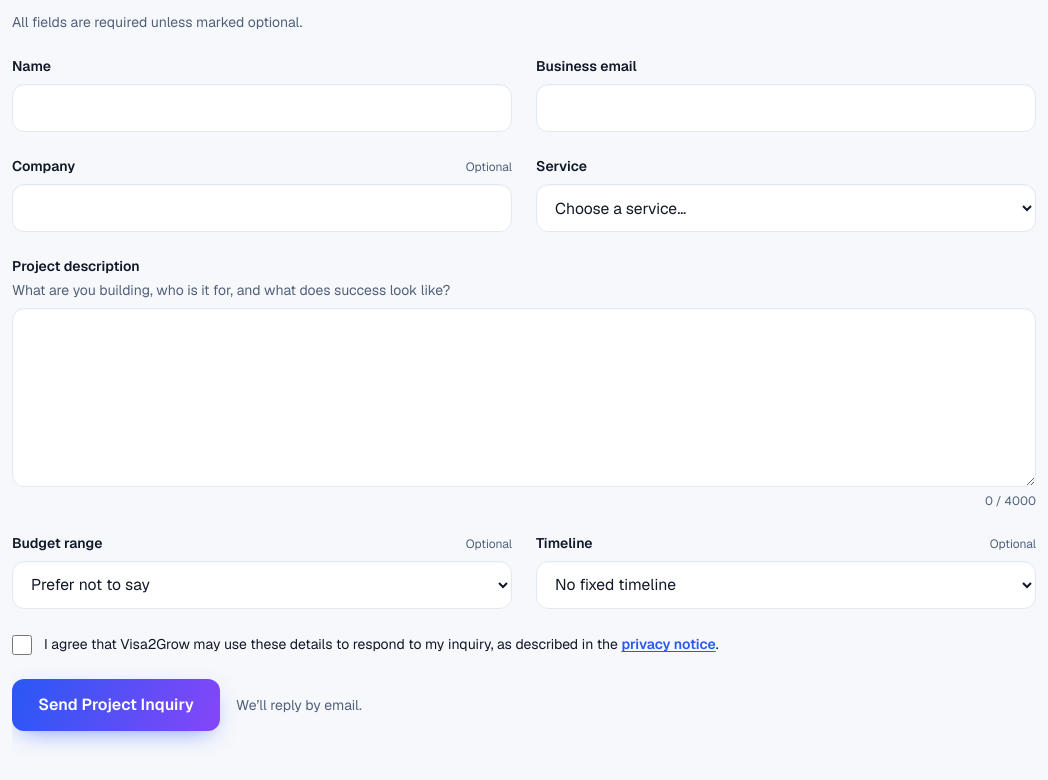
Scenario: ContactForm › says plainly when online submission is not configured
Type "Asha Rao" into the field labelled "Name" at (262, 108), box [12, 84, 512, 132]
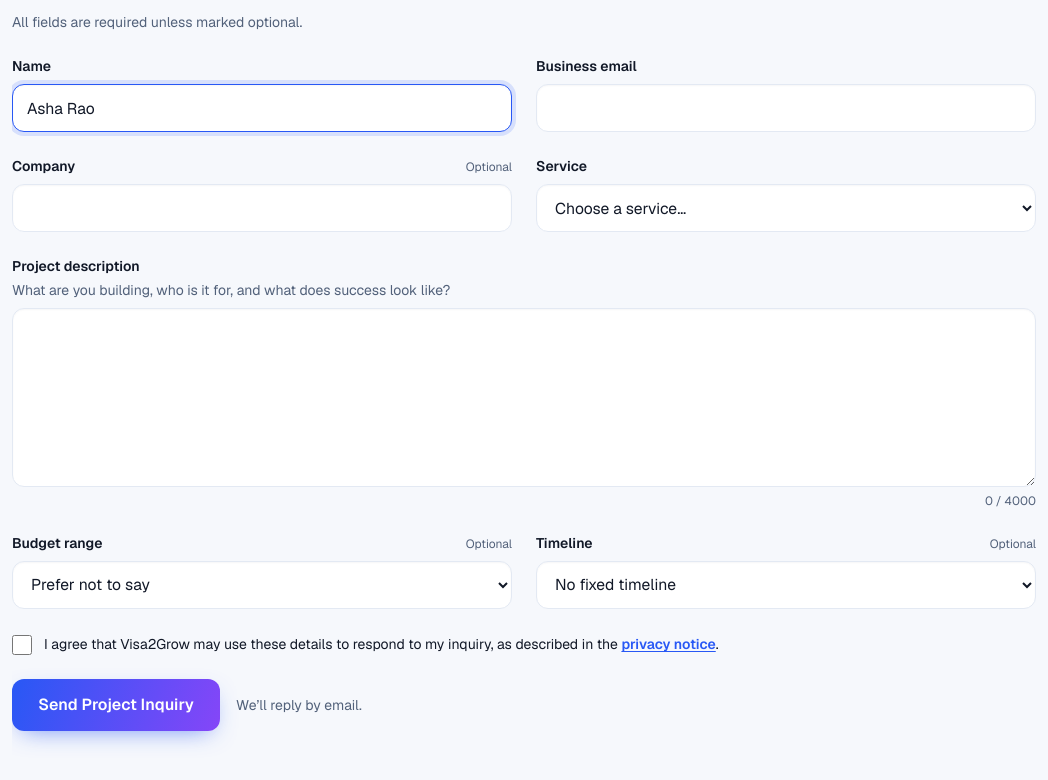
Type "asha@example.com" into the field labelled "Business email" at (786, 108), box [536, 84, 1036, 132]
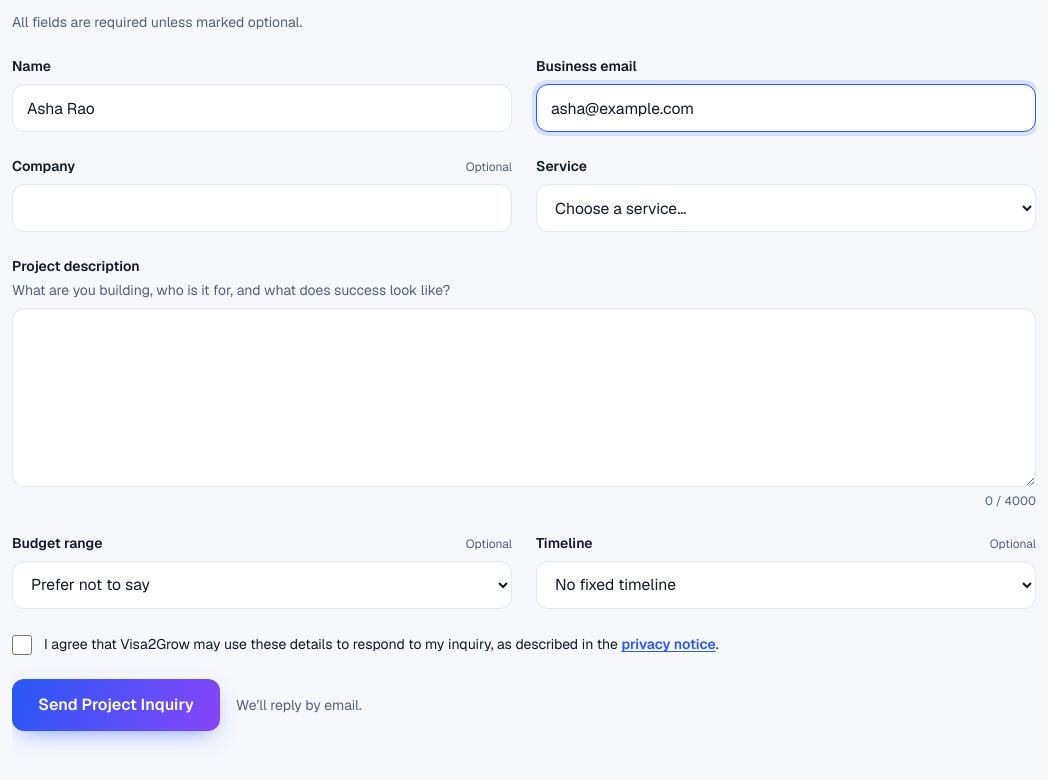
Select "Web Development" in the dropdown labelled "Service" at (786, 208), box [536, 184, 1036, 232]
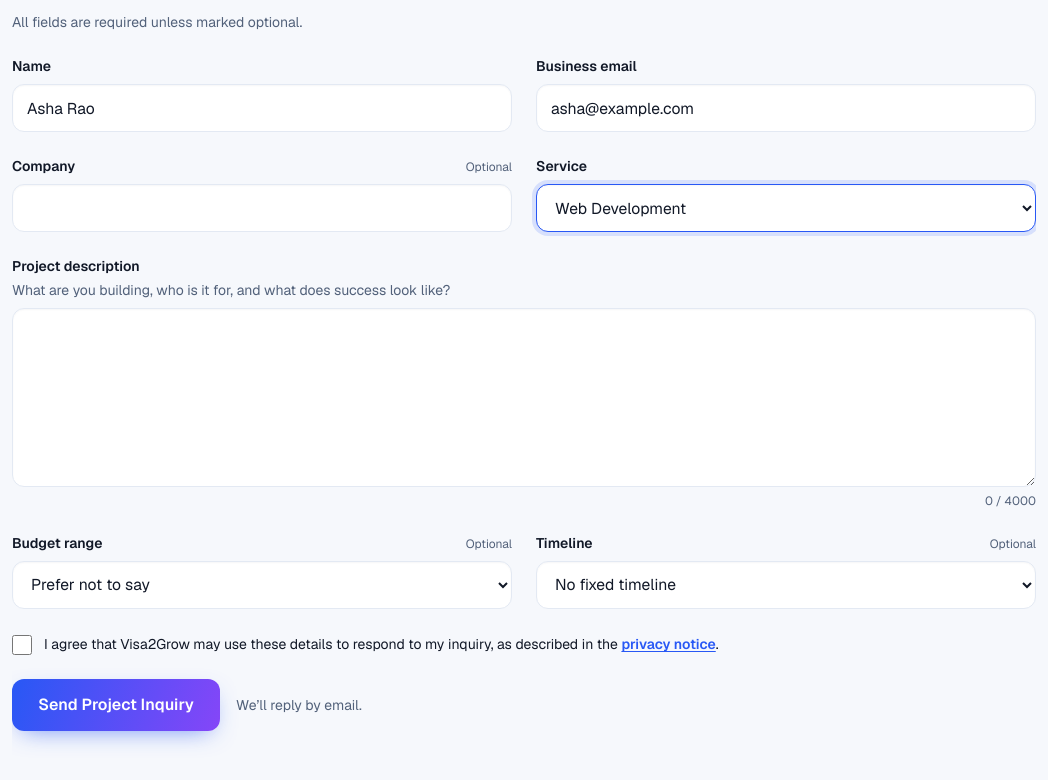
Type "We need a customer portal for booking and paying for maintenance visits." into the text box labelled "Project description" at (524, 397), box [12, 308, 1036, 487]
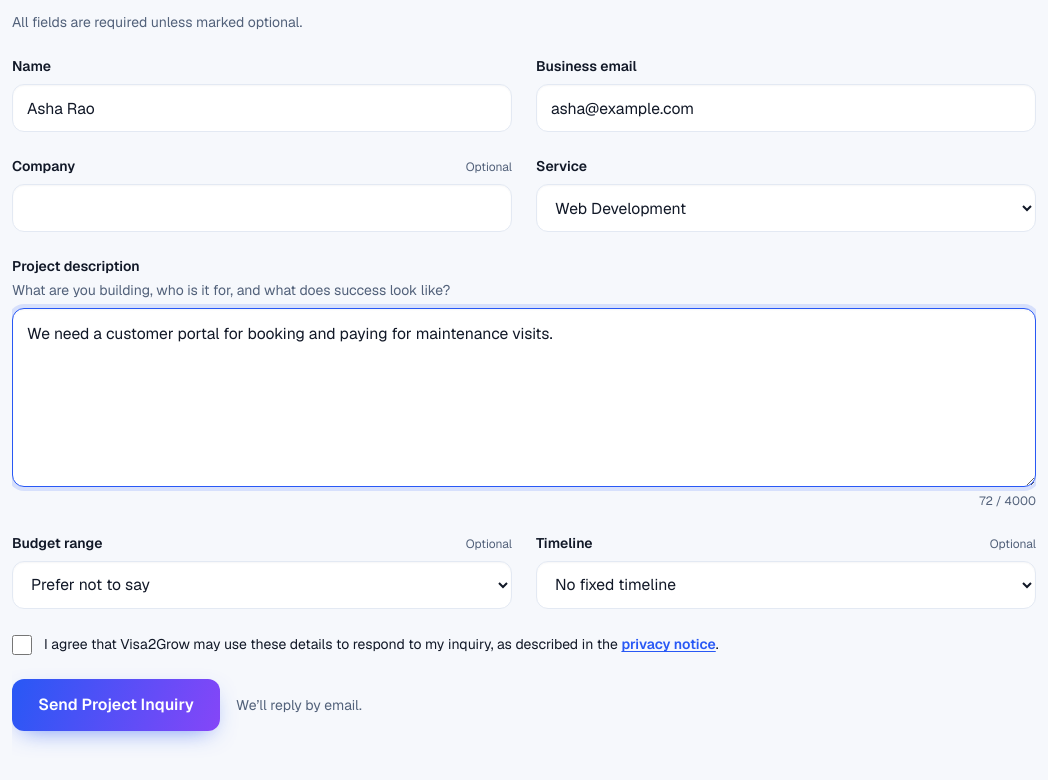
Click the checkbox at (22, 645), box [12, 635, 32, 655]
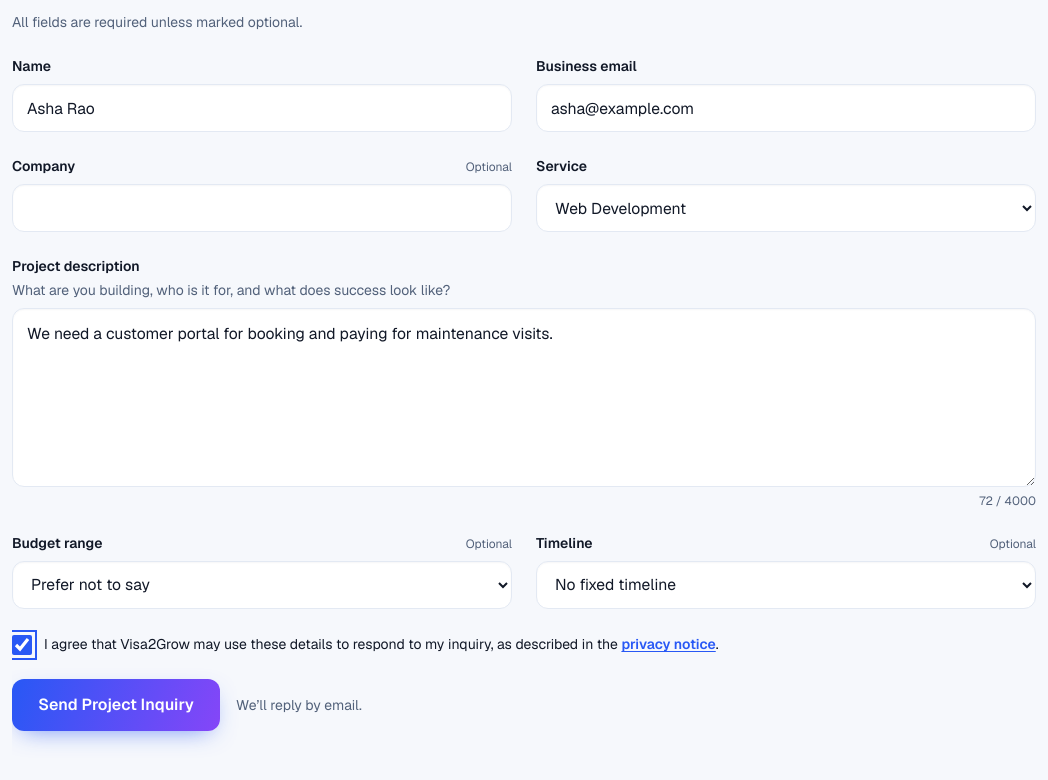
Click the button "Send Project Inquiry" at (116, 706), box [12, 680, 220, 732]
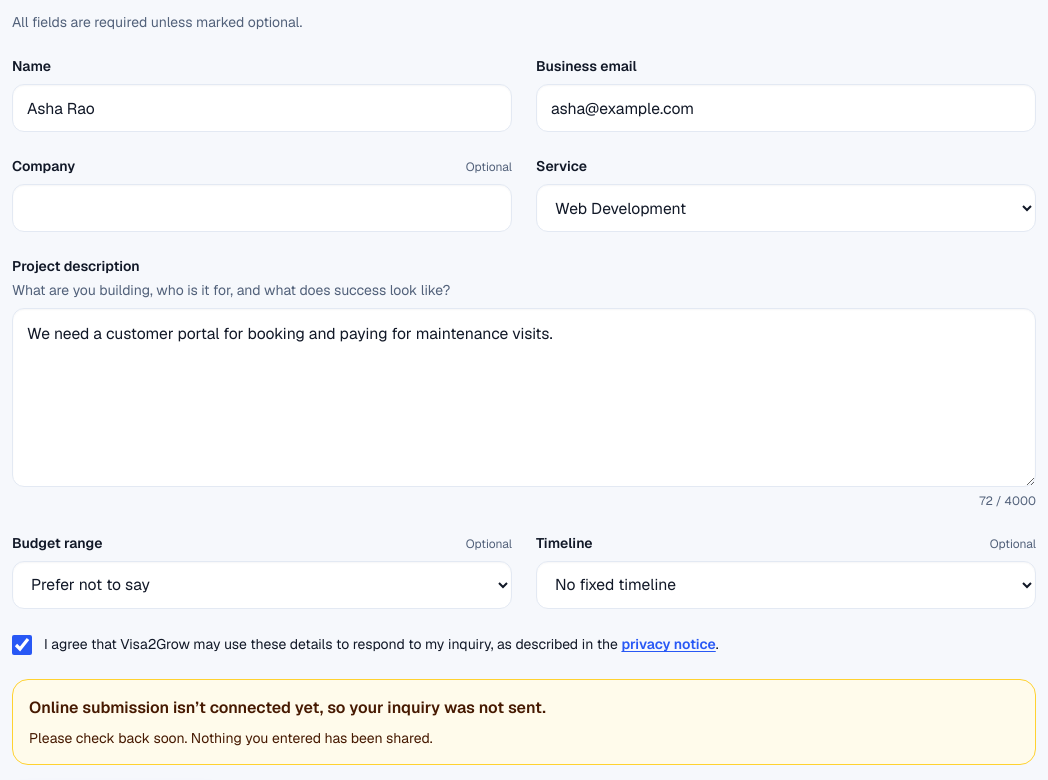
Now the text "Online submission isn’t connected yet" is shown, box [29, 698, 546, 718]
